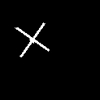single_crochet: (16, 23, 48, 56)
